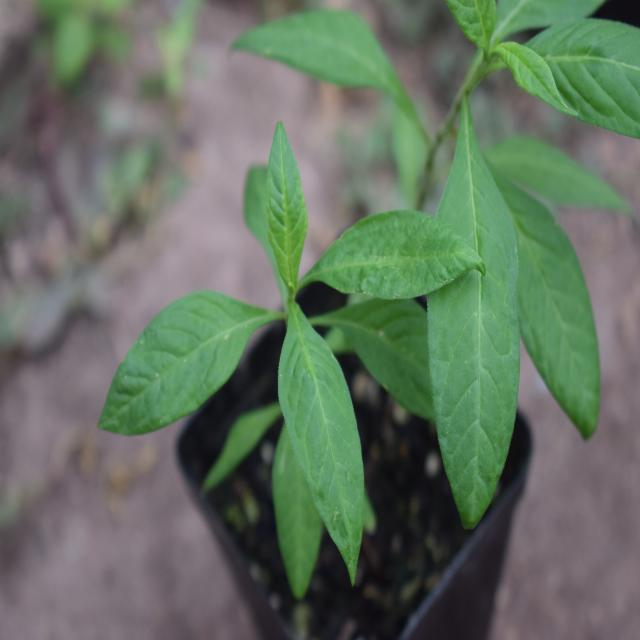white_smart_weed: (105, 139, 477, 563)
